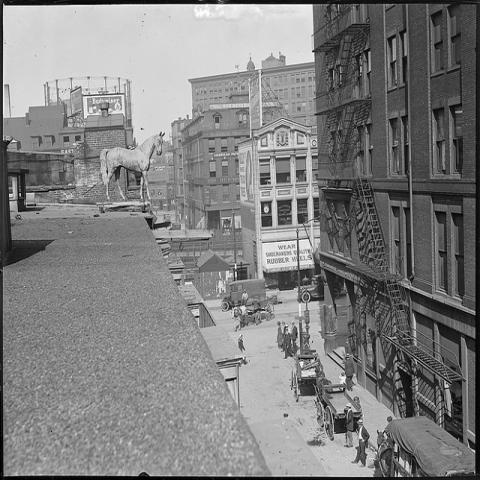car: (296, 273, 342, 304)
truck: (376, 412, 479, 474), (214, 279, 270, 310)
